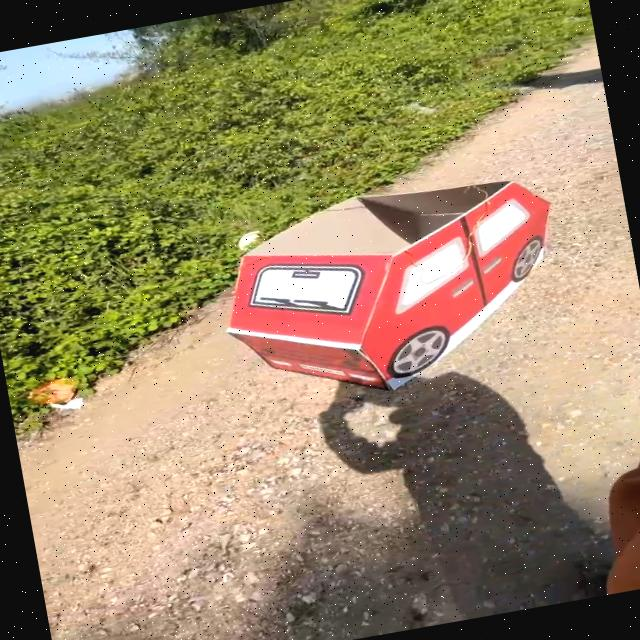red_car: (197, 152, 601, 425)
